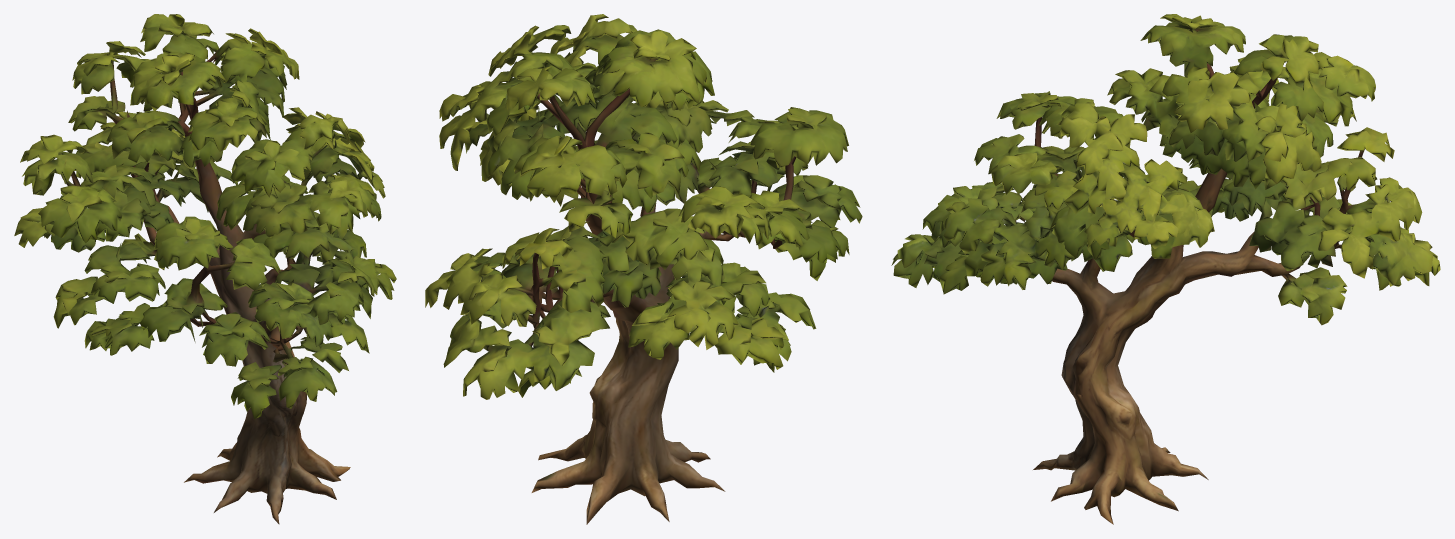
The picture shows the model from 3 angles, left to right: view 1: azimuth 30°, elevation 25°; view 2: azimuth 150°, elevation 25°; view 3: azimuth 270°, elevation 25°; orthographic projection. The views are drawn at different scales.
Parts seen in each view (by area): view 1: tripo_node_29a6781f-7481-48d0-babe-727448d5900a; view 2: tripo_node_29a6781f-7481-48d0-babe-727448d5900a; view 3: tripo_node_29a6781f-7481-48d0-babe-727448d5900a.
Part boxes in pixels (<box>): tripo_node_29a6781f-7481-48d0-babe-727448d5900a: <box>14,14,396,524</box>; tripo_node_29a6781f-7481-48d0-babe-727448d5900a: <box>425,14,862,524</box>; tripo_node_29a6781f-7481-48d0-babe-727448d5900a: <box>891,14,1440,524</box>.
Size of the model in its own units: 0.6764 by 0.8874 by 1.
1 material, 1 textured.
